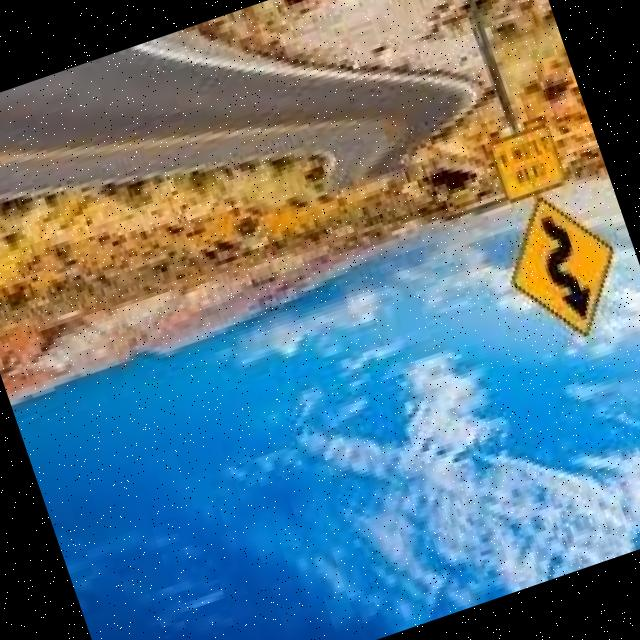left_sharp_curve: (483, 181, 640, 362)
